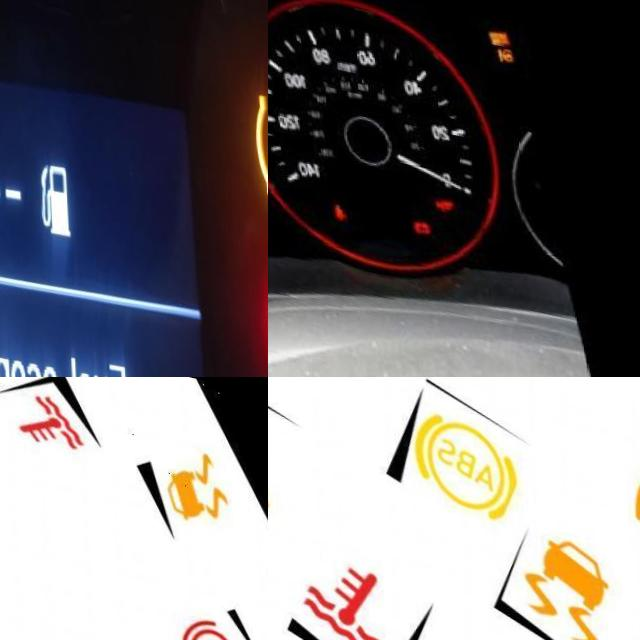Seat Belt: (327, 191, 344, 211)
